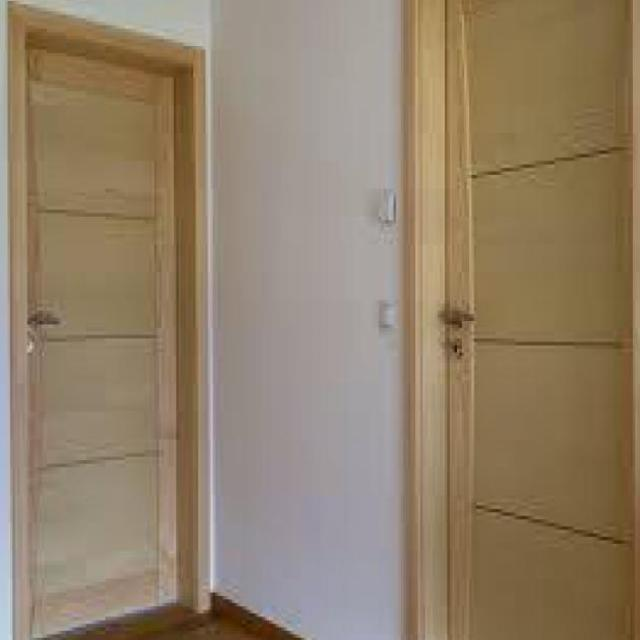door: (436, 0, 637, 639), (21, 28, 192, 620)
